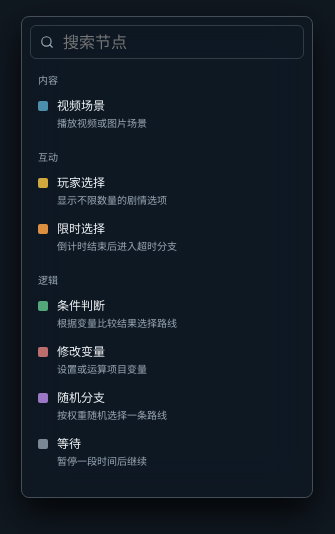
Test: NodeCreateMenu › filters by Chinese label and creates at the requested graph position
The width and height of the screenshot is (335, 534).
Later steps or results of the test are not shown.
Type "随机" into the search field labelled "搜索节点" at [178, 42], box [61, 31, 294, 53]
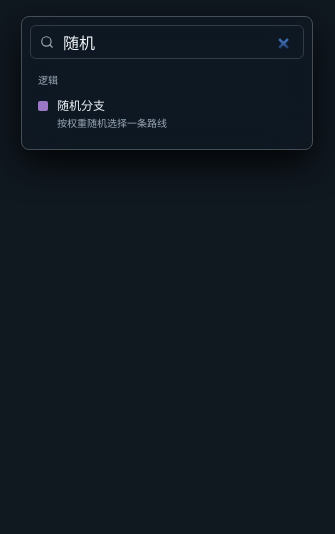
Check: the button "视频场景" is gone
